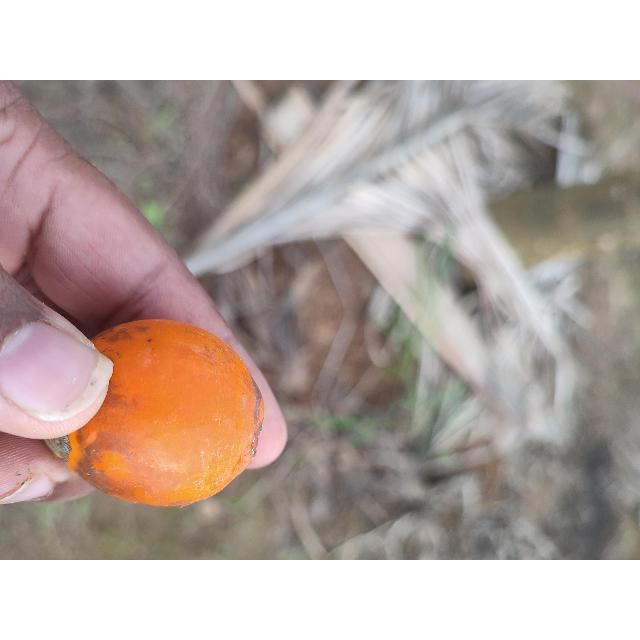good: (43, 320, 264, 508)
